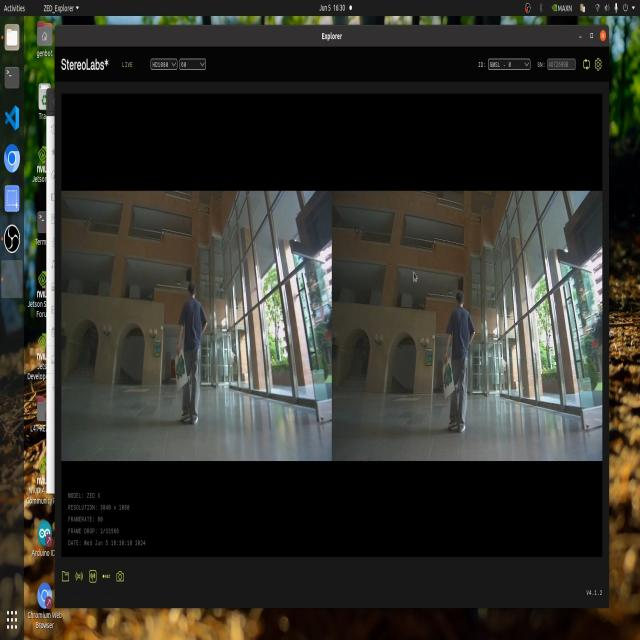green: (171, 353, 190, 384), (436, 362, 454, 391)
